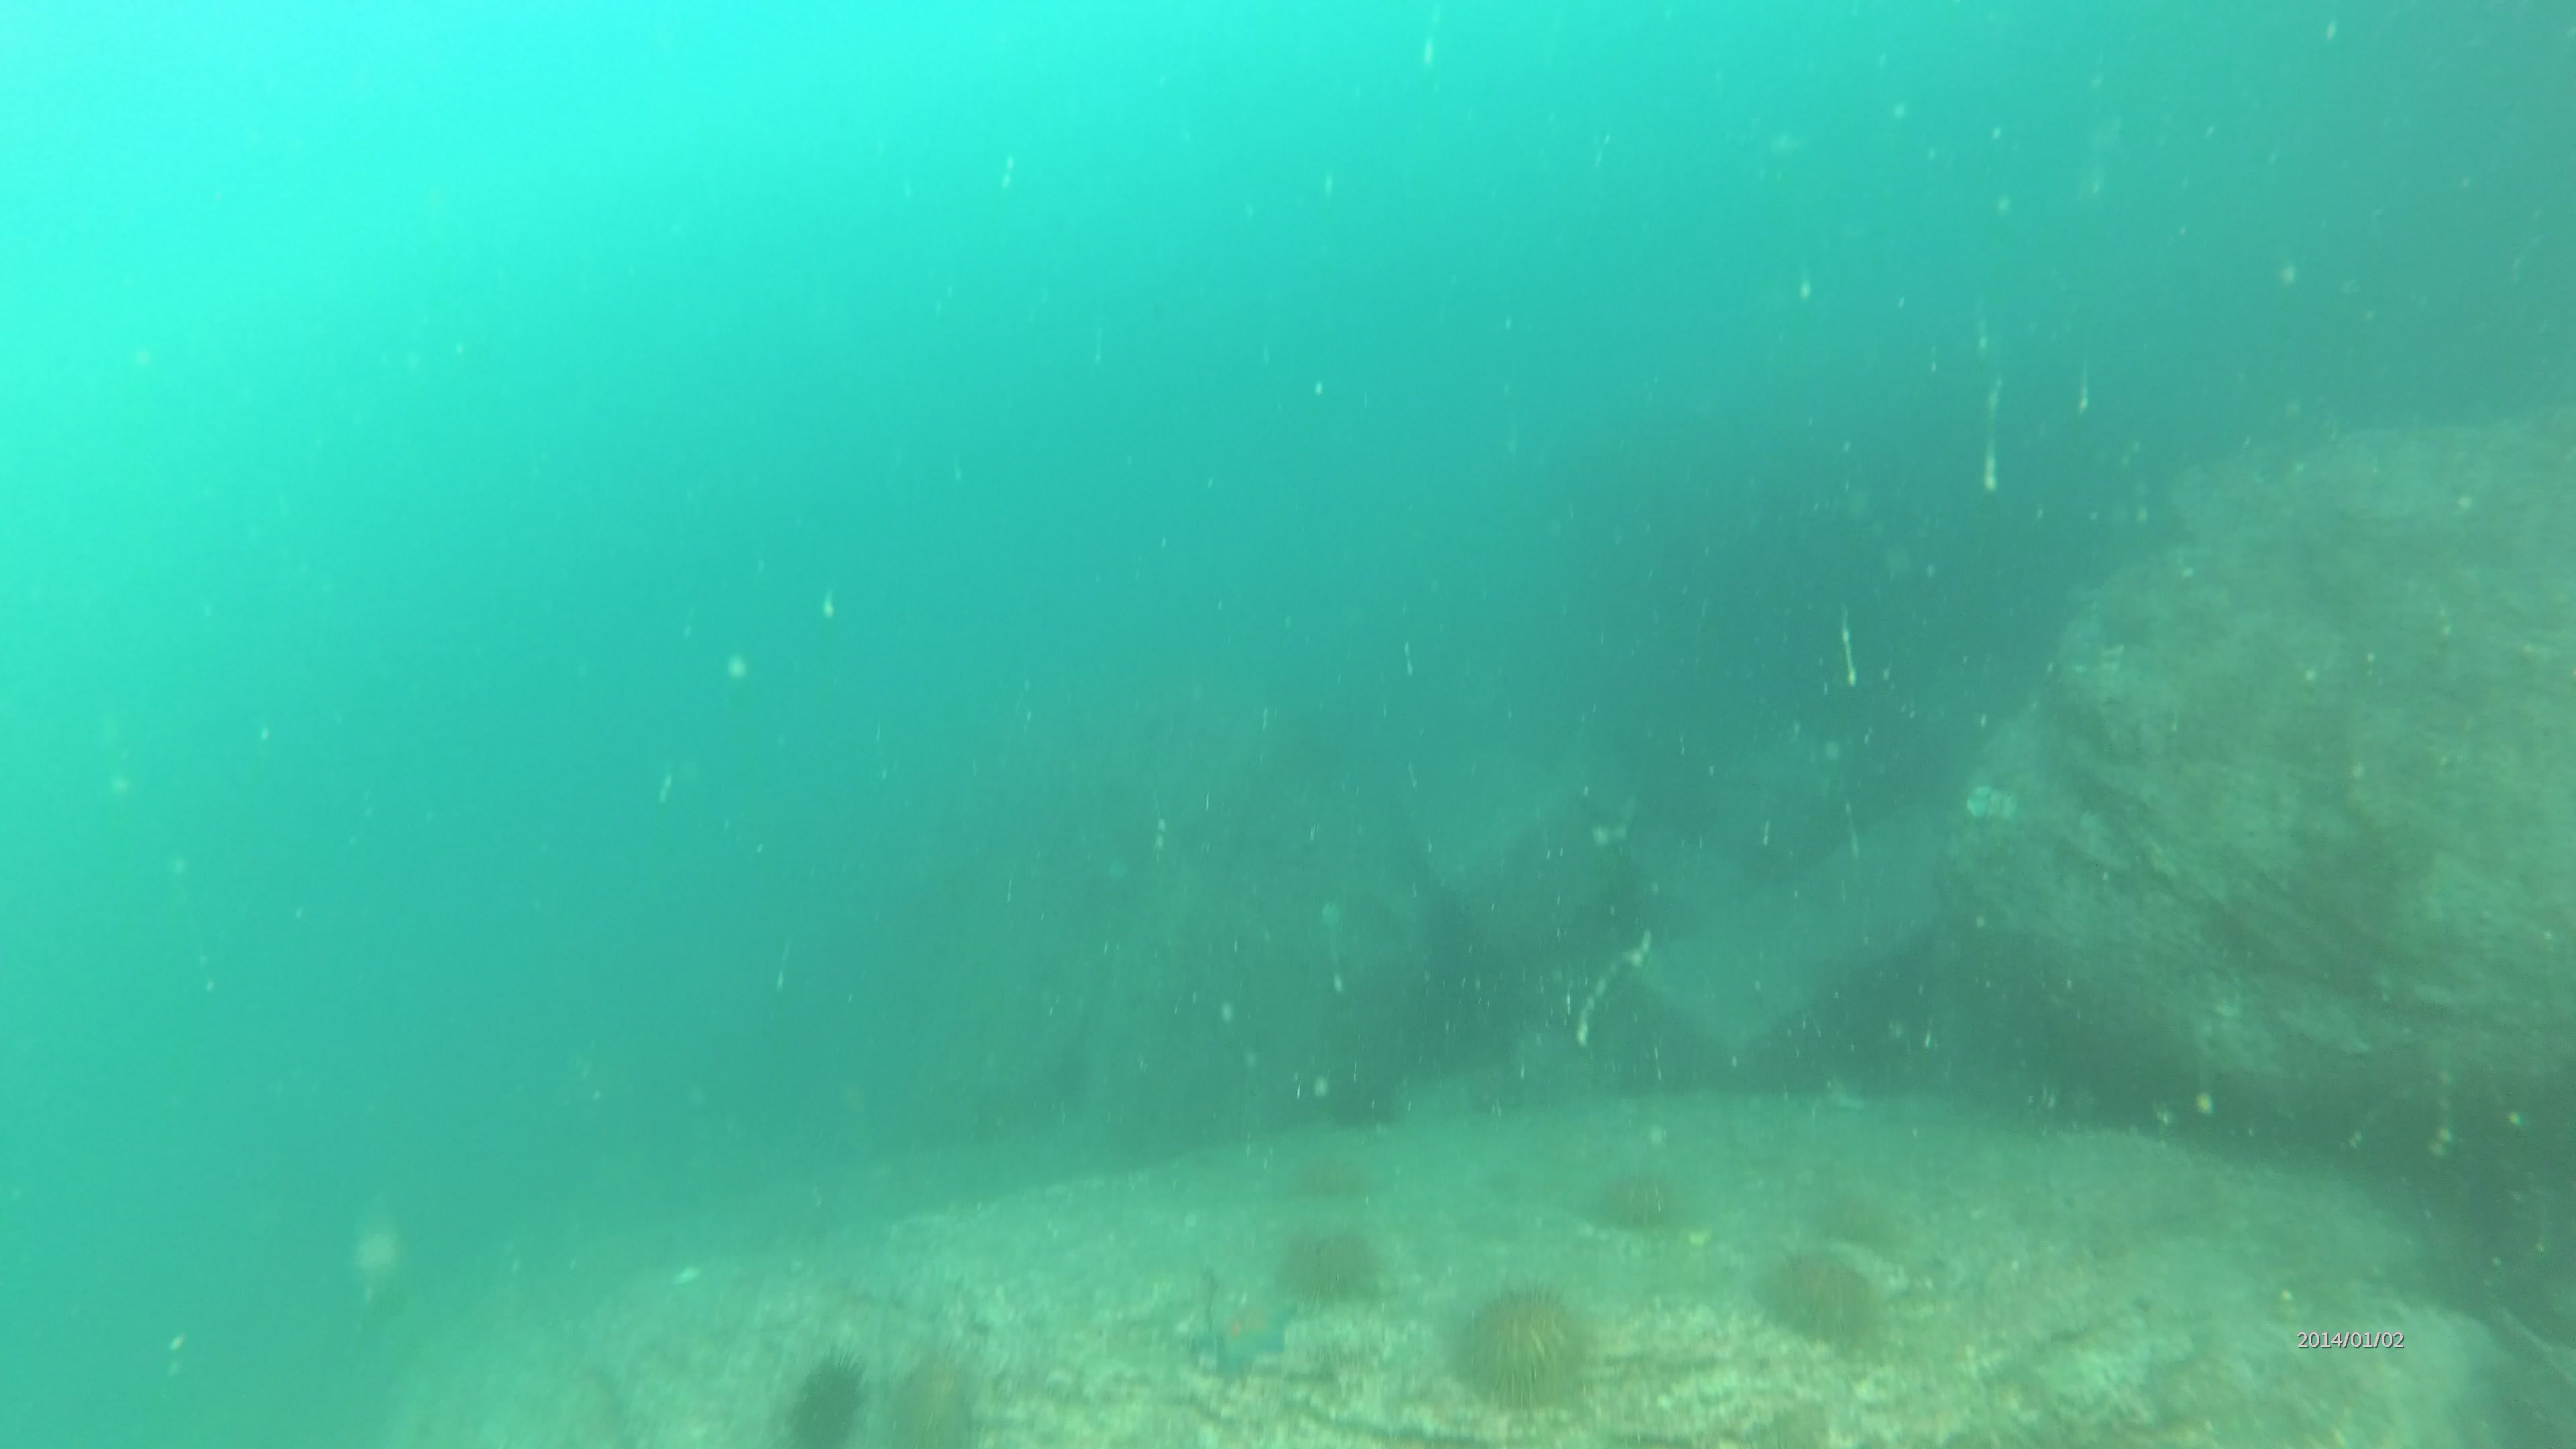echinus: (1454, 1276, 1591, 1396), (1767, 1258, 1888, 1350), (1276, 1212, 1392, 1304), (908, 1352, 985, 1449), (796, 1346, 870, 1442), (1605, 1162, 1665, 1233), (1318, 1079, 1412, 1122)
